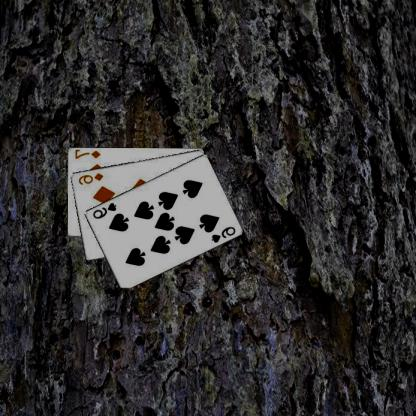6D: (77, 170, 106, 186)
7D: (74, 148, 103, 160)
9S: (210, 224, 238, 244), (92, 200, 119, 220)
